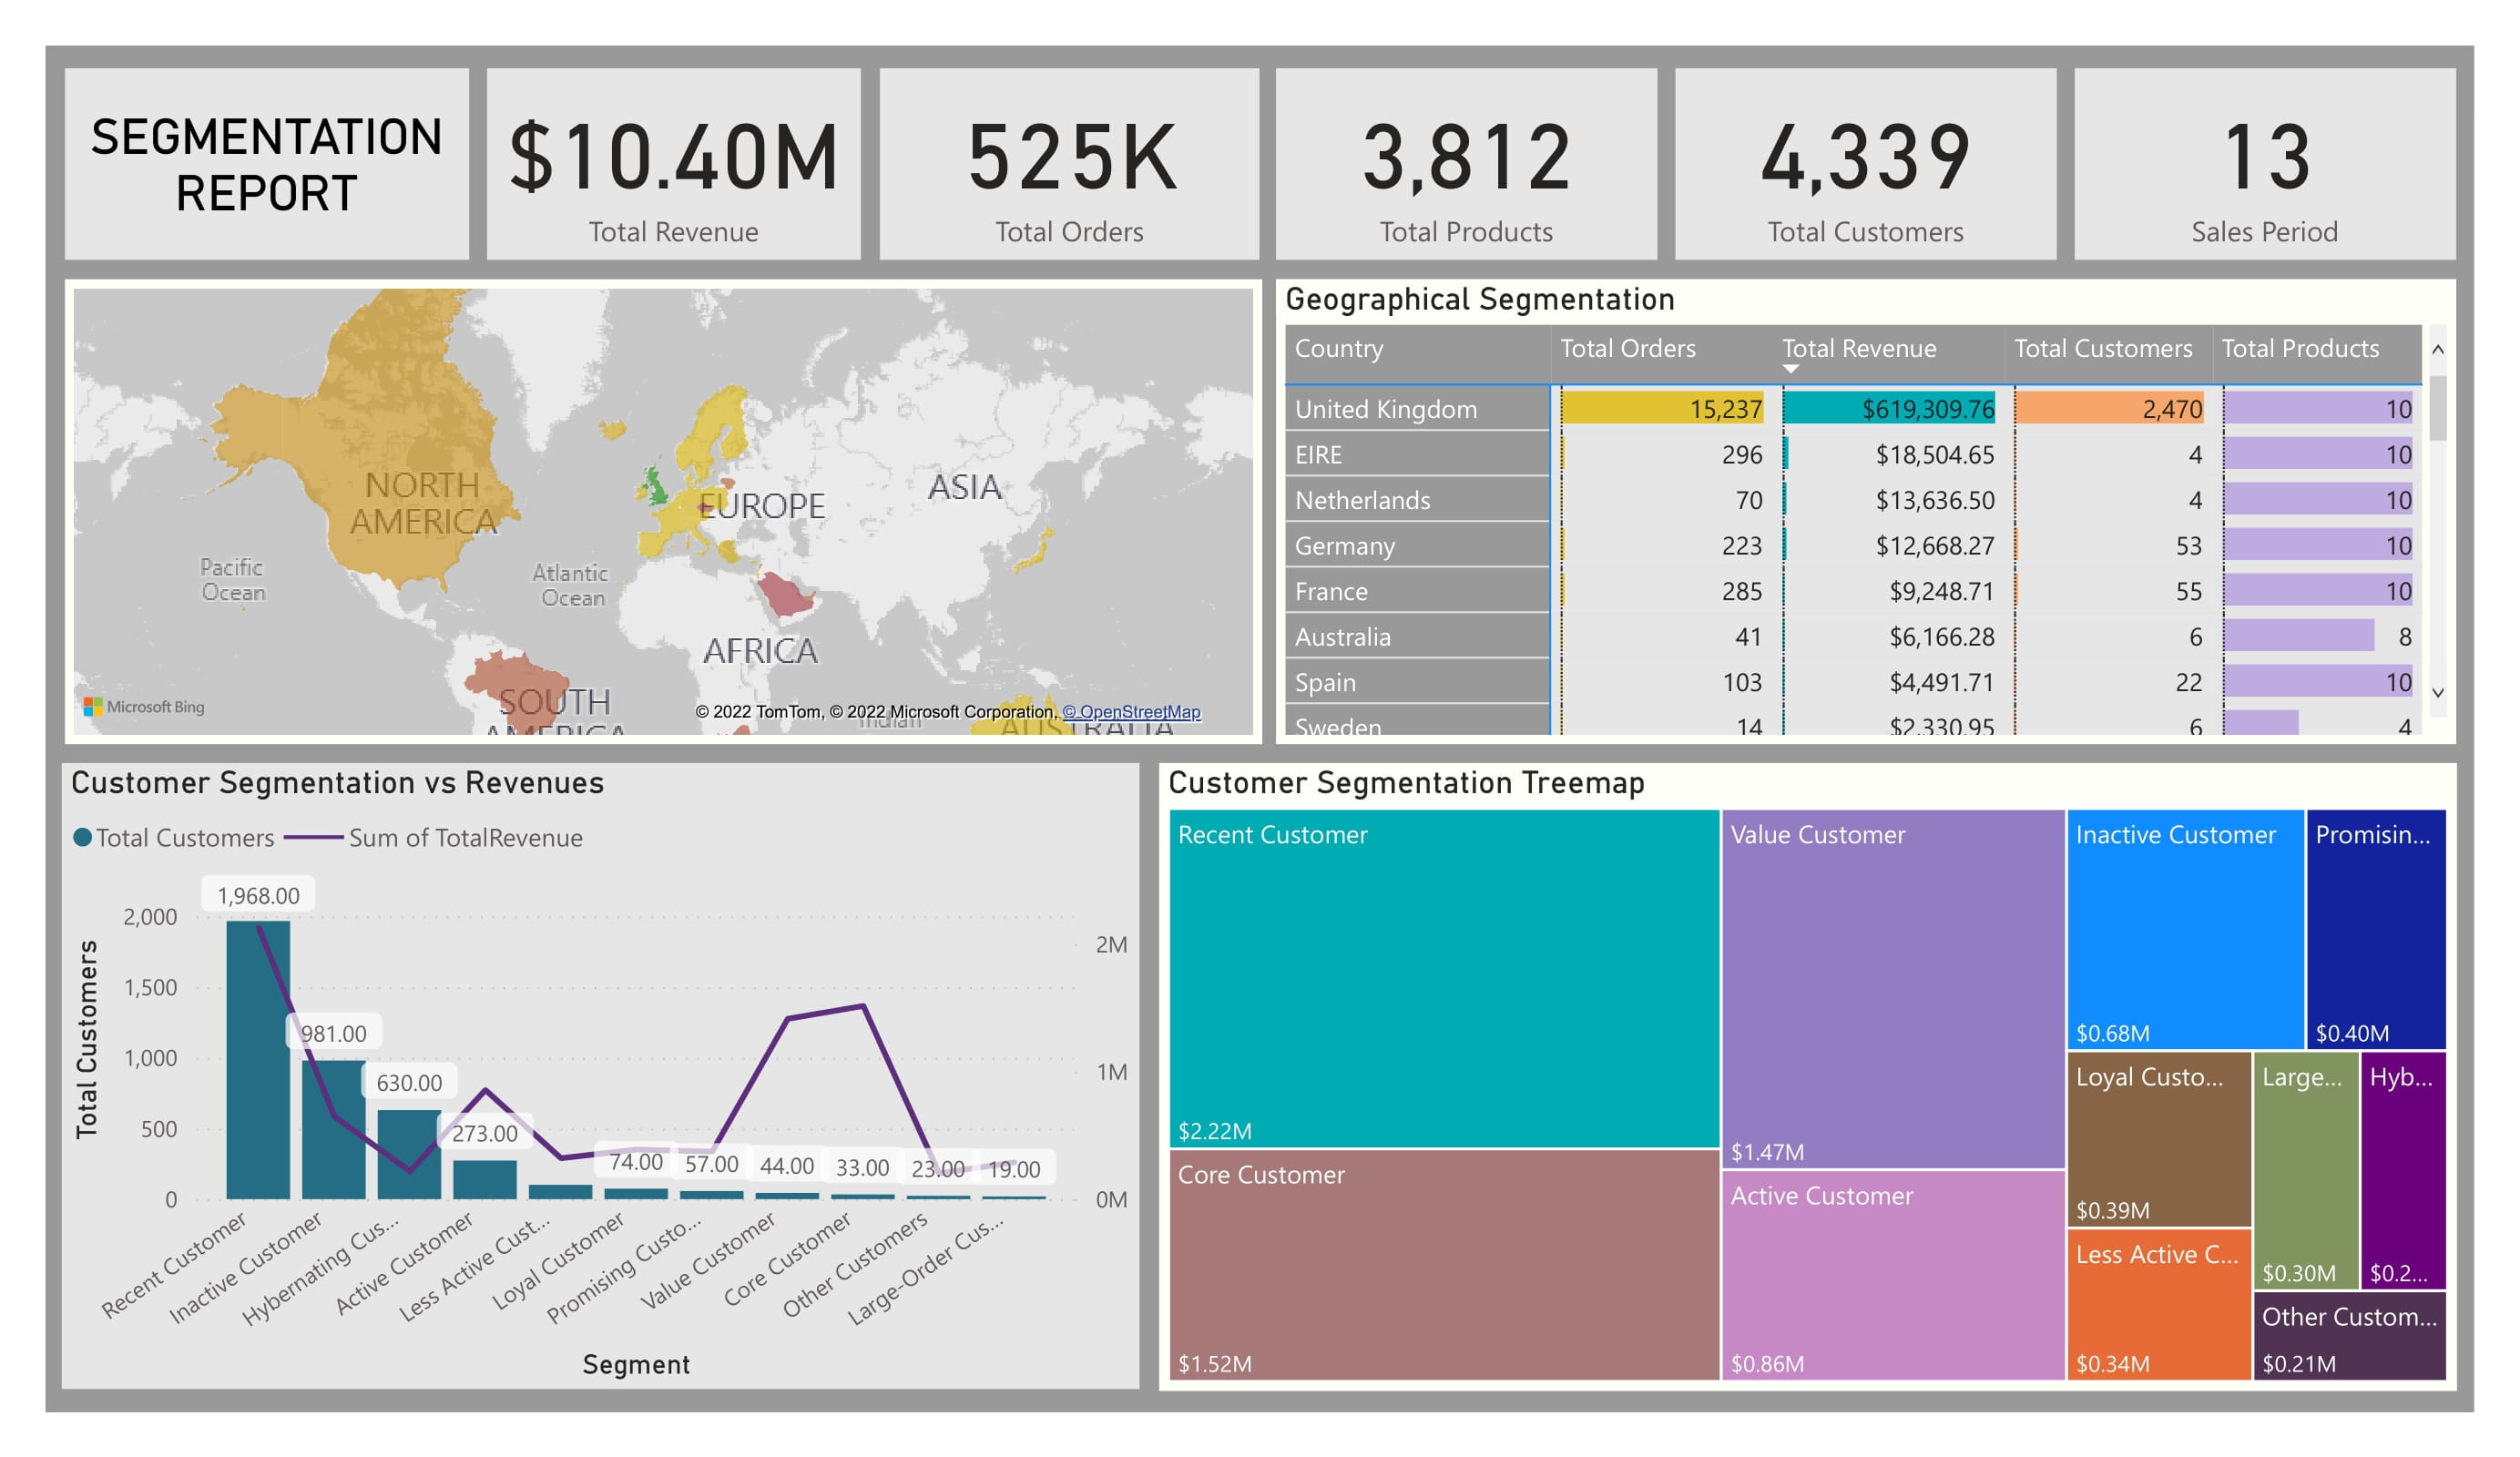

The page's visual inventory and layout, read from the dashboard file:
{"tool":"powerbi","page":{"name":"Page 2","canvas":[1280,720],"ordinal":1},"visuals":[{"type":"filledMap","title":"Geographical Information","fields":{"Category":["project report_segment.Country"]},"box":[9.5,123.2,630.7,244.6],"z":0},{"type":"treemap","title":"Customer Segmentation Treemap","fields":{"Group":["project report_segment.Segment"],"Values":["project report_segment.Total Revenue"]},"box":[586.4,378.2,684.4,331.4],"z":1000},{"type":"card","fields":{"Values":["project report_segment.Total Revenue"]},"box":[232.5,11.3,196.9,100.6],"z":2000},{"type":"card","fields":{"Values":["project report_segment.Total Orders"]},"box":[439.8,11.3,200.4,100.6],"z":3000},{"type":"card","fields":{"Values":["project report_segment.Total Products"]},"box":[648.9,11.3,201.3,100.6],"z":4000},{"type":"card","fields":{"Values":["project report_segment.Total Customers"]},"box":[858.8,11.3,201.3,100.6],"z":5000},{"type":"pivotTable","title":"Geographical Segmentation","fields":{"Rows":["report_segment.Country"],"Values":["report_segment.Total Orders","report_segment.Total Revenue","report_segment.Total Customers","report_segment.Total Products"]},"box":[648.9,123.2,622,244.6],"z":6000},{"type":"lineClusteredColumnComboChart","title":"Customer Segmentation vs Revenues","fields":{"Category":["report_segment.Segment"],"Y":["report_segment.Total Customers"],"Y2":["Sum(report_segment.TotalRevenue)"]},"box":[9.2,378.2,568.4,330],"z":7000},{"type":"card","fields":{"Values":["project report_segment.Sales Period"]},"box":[1069.6,11.3,201.3,100.6],"z":8000},{"type":"shape","box":[9.5,11.3,213.4,100.6],"z":9000}]}

Visuals, with their boxes in screenshot pixels (x1, y1, x2, y2):
"Geographical Information" filledMap: (left=64, top=280, right=1260, bottom=743)
"Customer Segmentation Treemap" treemap: (left=1158, top=763, right=2457, bottom=1391)
card - project report_segment.Total Revenue: (left=486, top=67, right=861, bottom=258)
card - project report_segment.Total Orders: (left=880, top=67, right=1260, bottom=258)
card - project report_segment.Total Products: (left=1277, top=67, right=1658, bottom=258)
card - project report_segment.Total Customers: (left=1675, top=67, right=2057, bottom=258)
"Geographical Segmentation" pivotTable: (left=1277, top=280, right=2457, bottom=743)
"Customer Segmentation vs Revenues" lineClusteredColumnComboChart: (left=63, top=763, right=1141, bottom=1389)
card - project report_segment.Sales Period: (left=2076, top=67, right=2457, bottom=258)
shape: (left=64, top=67, right=468, bottom=258)
